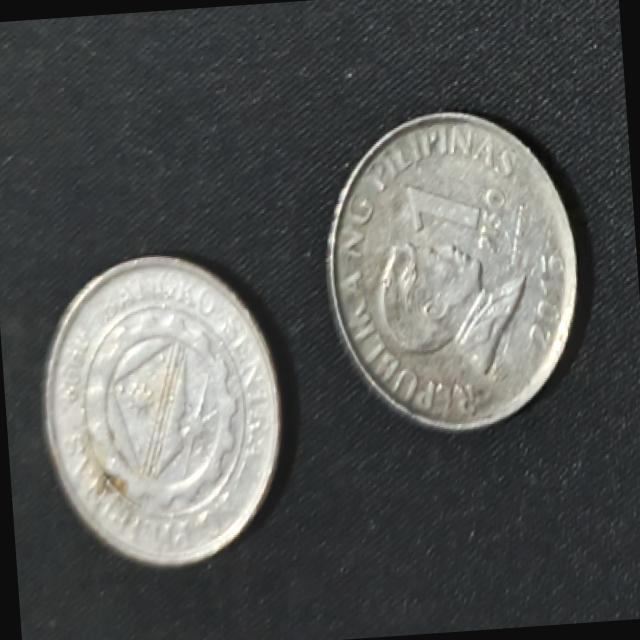1_peso: (327, 114, 574, 428), (44, 256, 280, 563)
